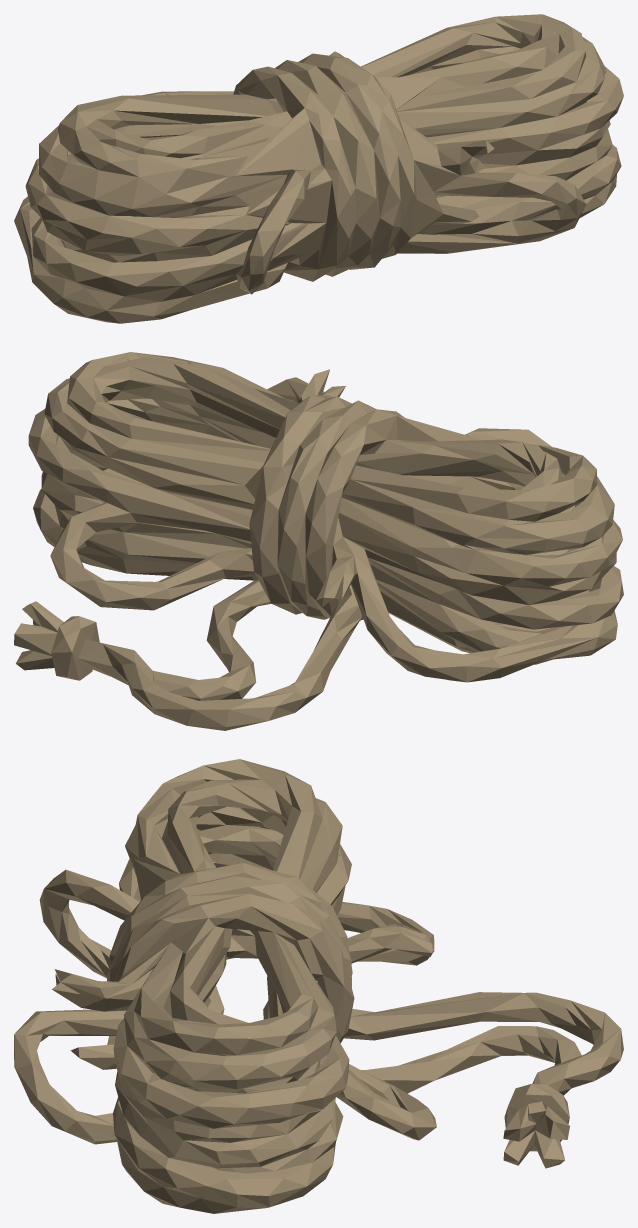
Rendered from CoiledRope.fbx.
3 views of the same model, one above another, from view 1: azimuth 30°, elevation 25°; view 2: azimuth 150°, elevation 25°; view 3: azimuth 270°, elevation 25° (orthographic). The views are drawn at different scales.
Visible parts, largest first — view 1: CoiledRope; view 2: CoiledRope; view 3: CoiledRope.
Boxes of the visible parts, left/top/right/bottom form: CoiledRope: left=14, top=14, right=623, bottom=323; CoiledRope: left=14, top=352, right=623, bottom=730; CoiledRope: left=14, top=759, right=623, bottom=1213.
Bounding box in the file's own units: 0.4512 × 0.3858 × 0.1492.
